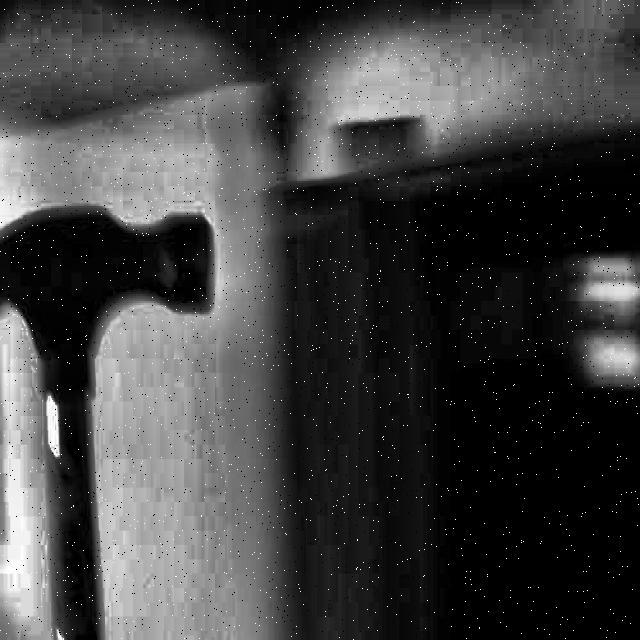hammer: (0, 206, 212, 640)
